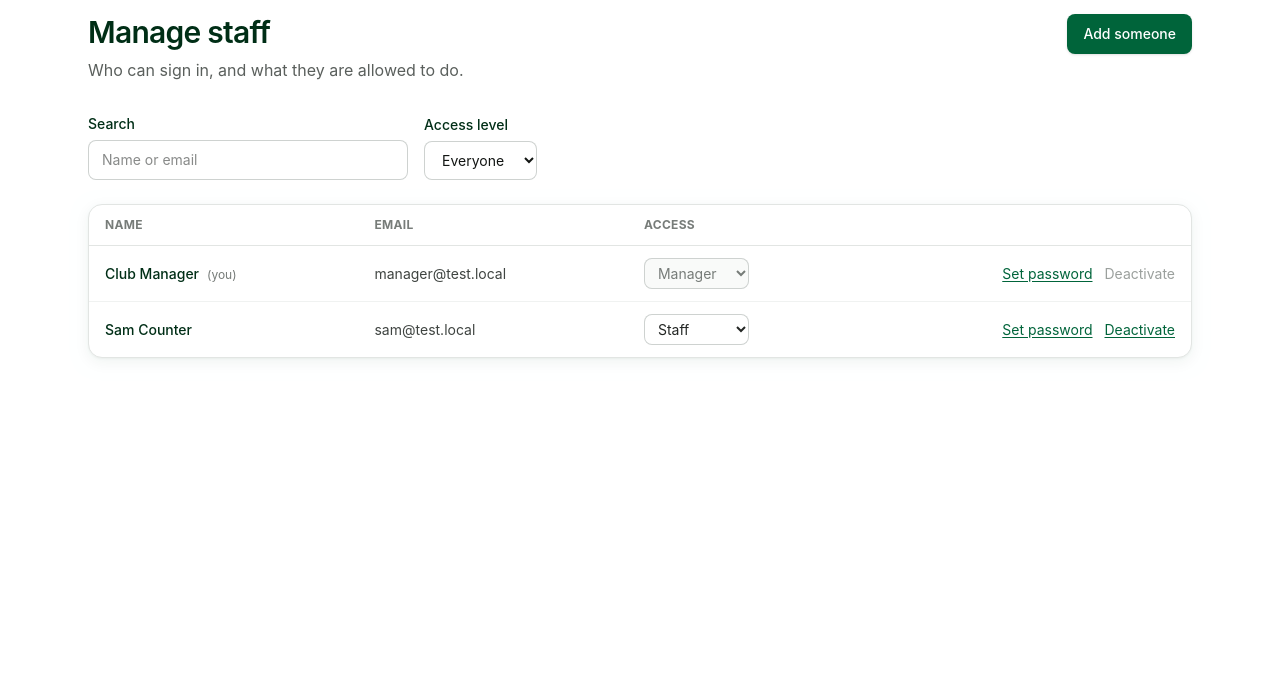
AdminUsersPage › creates an account with the chosen access level
Click the button "Add someone" at (1130, 34), box top-left (1067, 14), bottom-right (1192, 54)
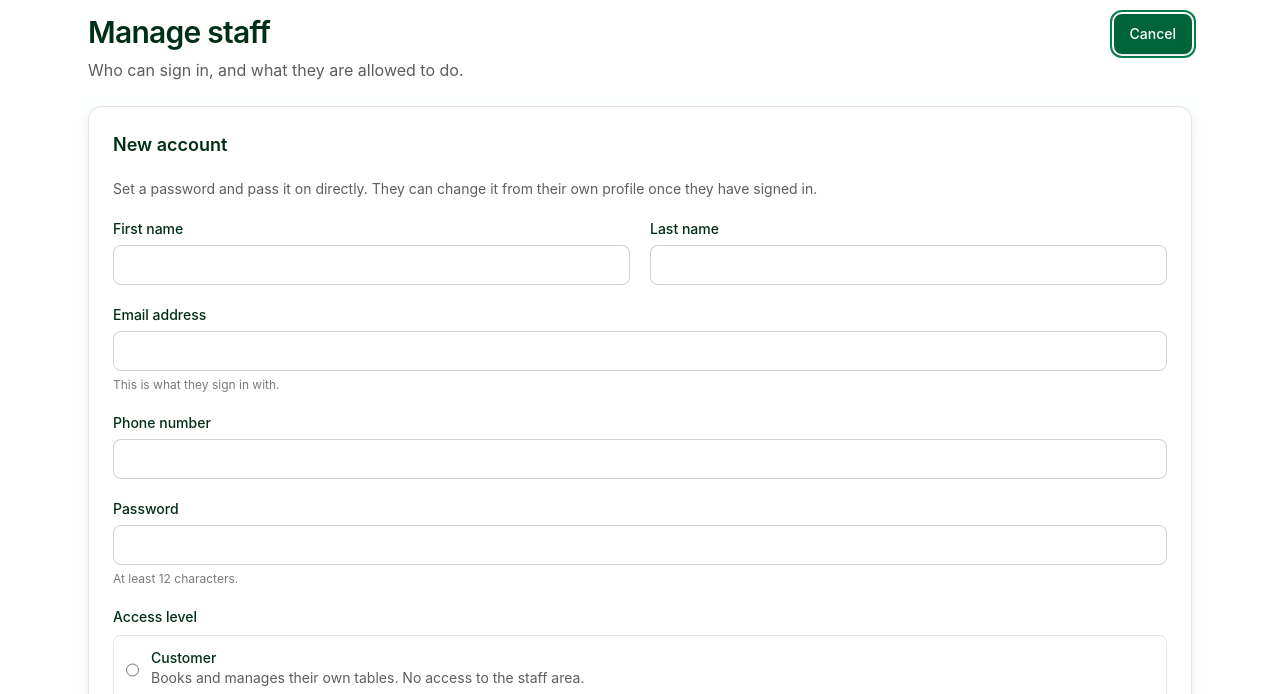
Type "New" into the field labelled "First name" at (372, 265), box top-left (113, 245), bottom-right (630, 285)
Type "Starter" into the field labelled "Last name" at (908, 265), box top-left (650, 245), bottom-right (1167, 285)
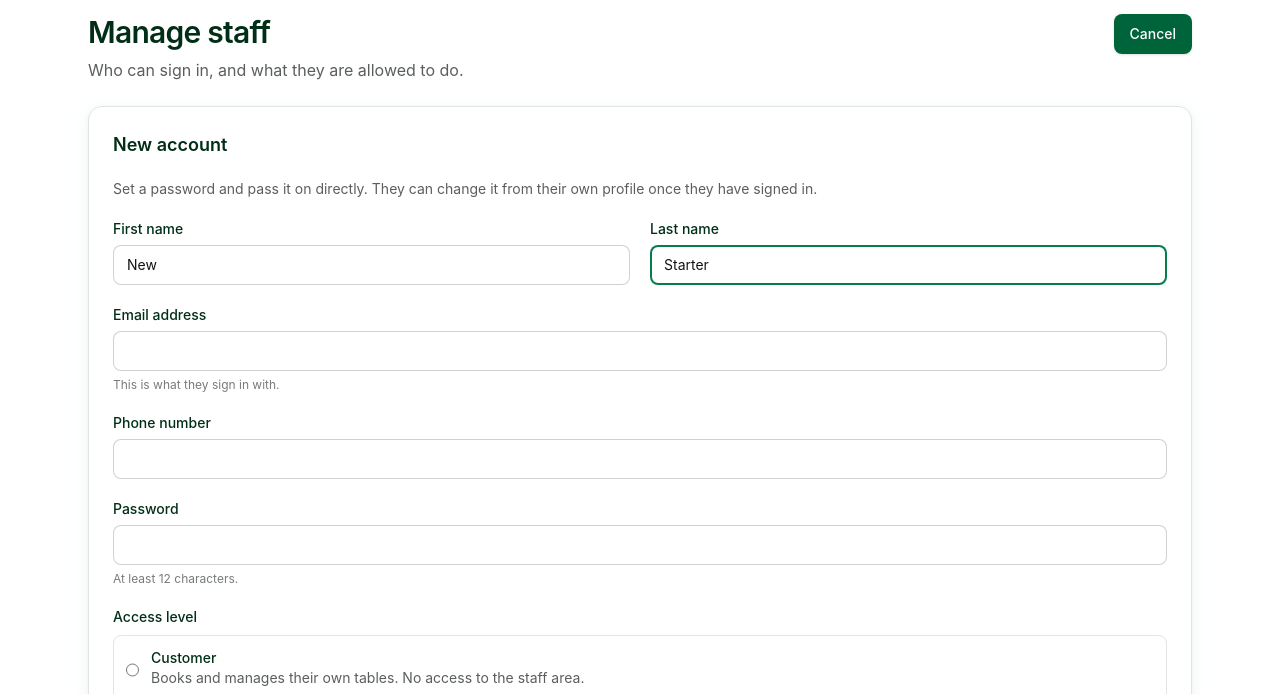
Type "new@test.local" into the field labelled "Email address" at (640, 351), box top-left (113, 331), bottom-right (1167, 371)
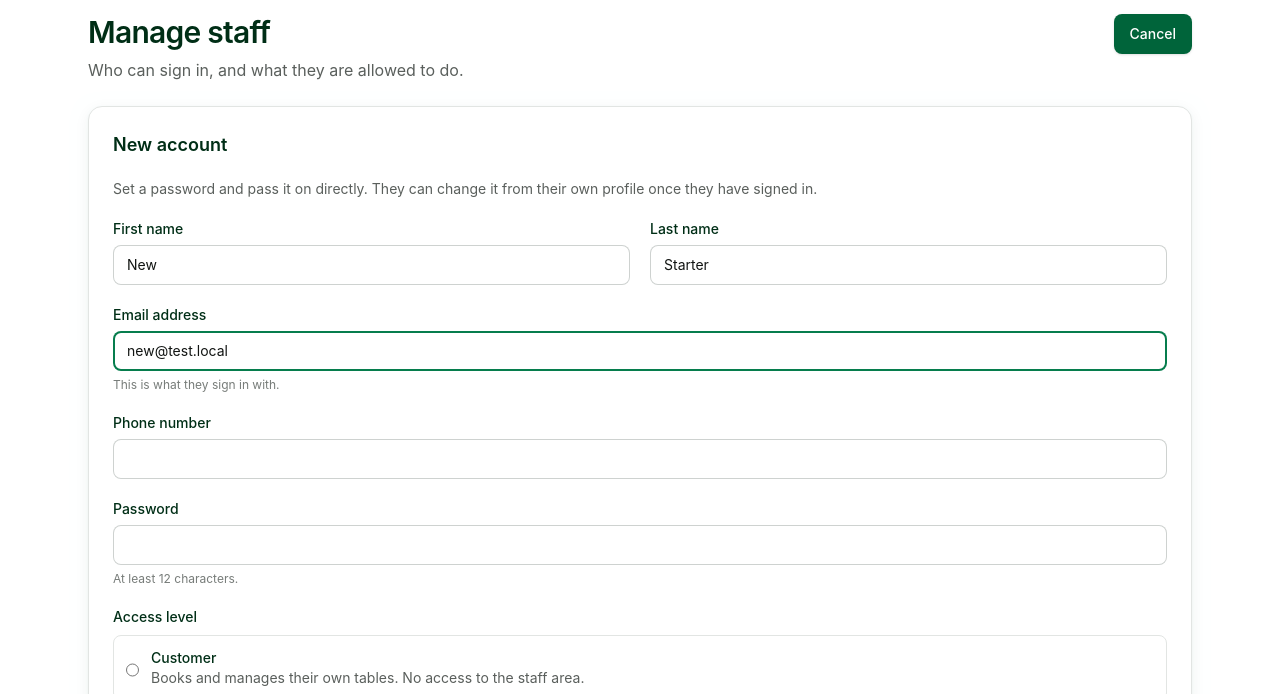
Type "AVeryLongPassword1" into the password field labelled "Password" at (640, 545), box top-left (113, 525), bottom-right (1167, 565)
(page scrolled)
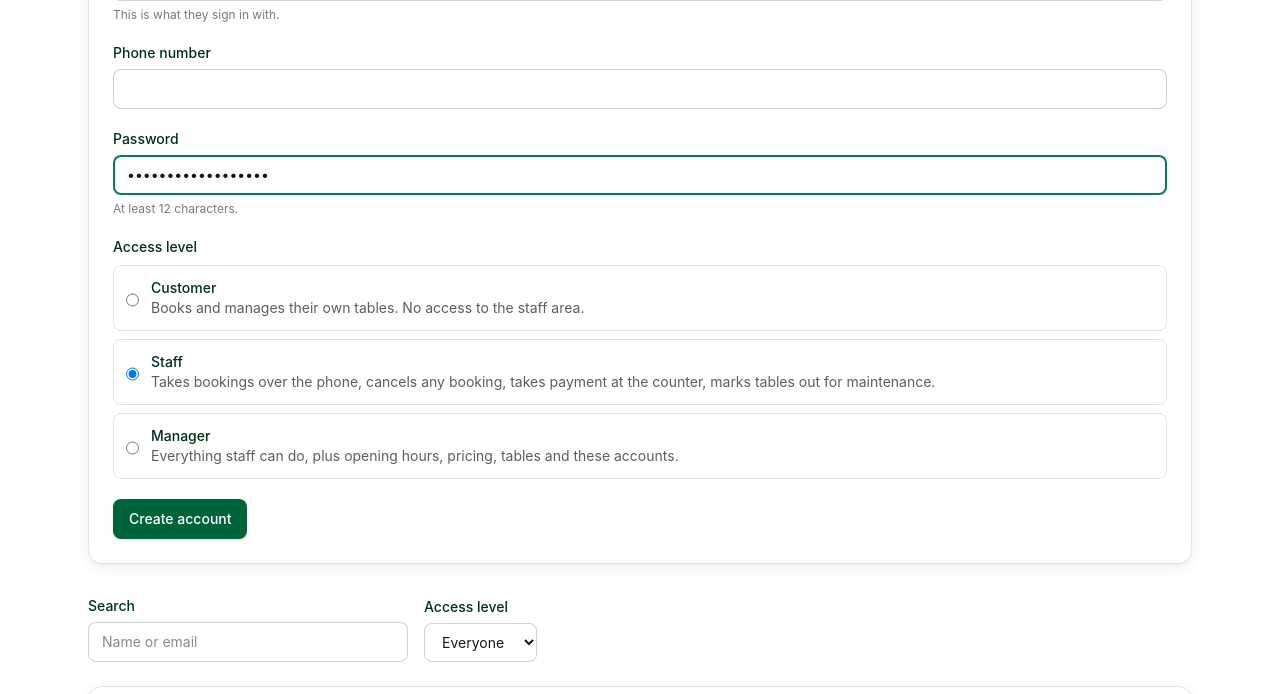
Click the radio button labelled "Staff" at (132, 374), box top-left (126, 356), bottom-right (139, 392)
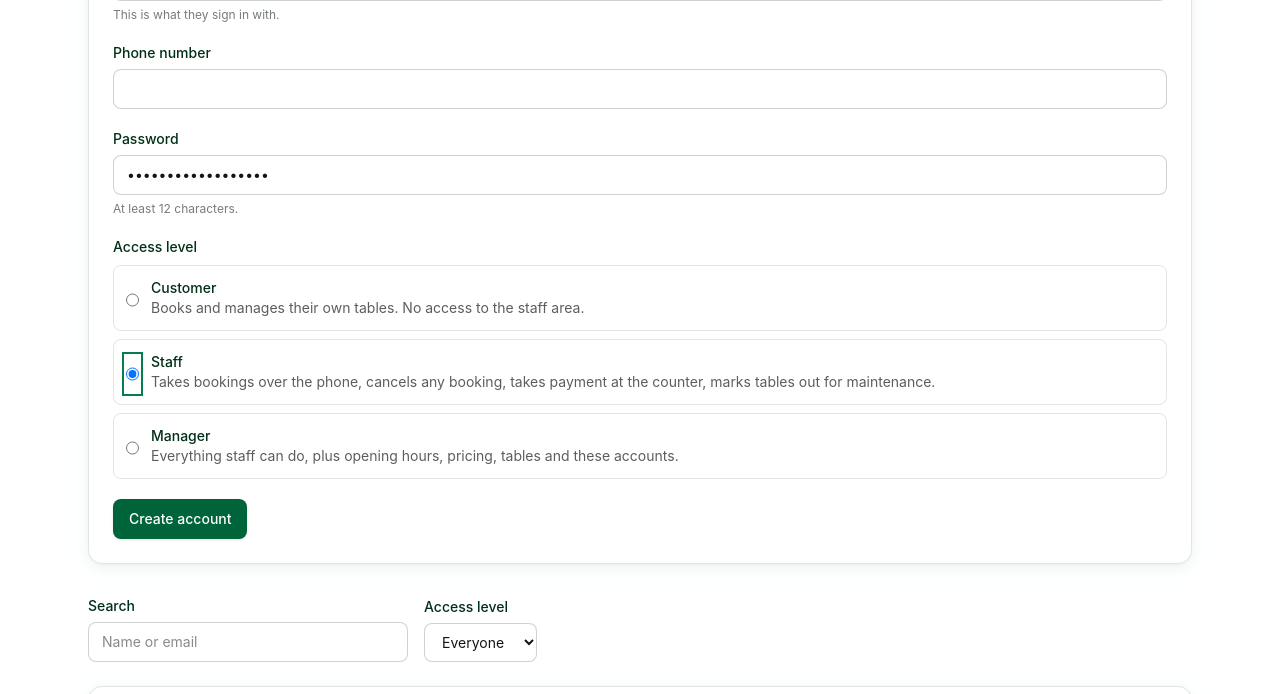
Click the button "Create account" at (180, 519), box top-left (113, 499), bottom-right (248, 539)
(page scrolled)
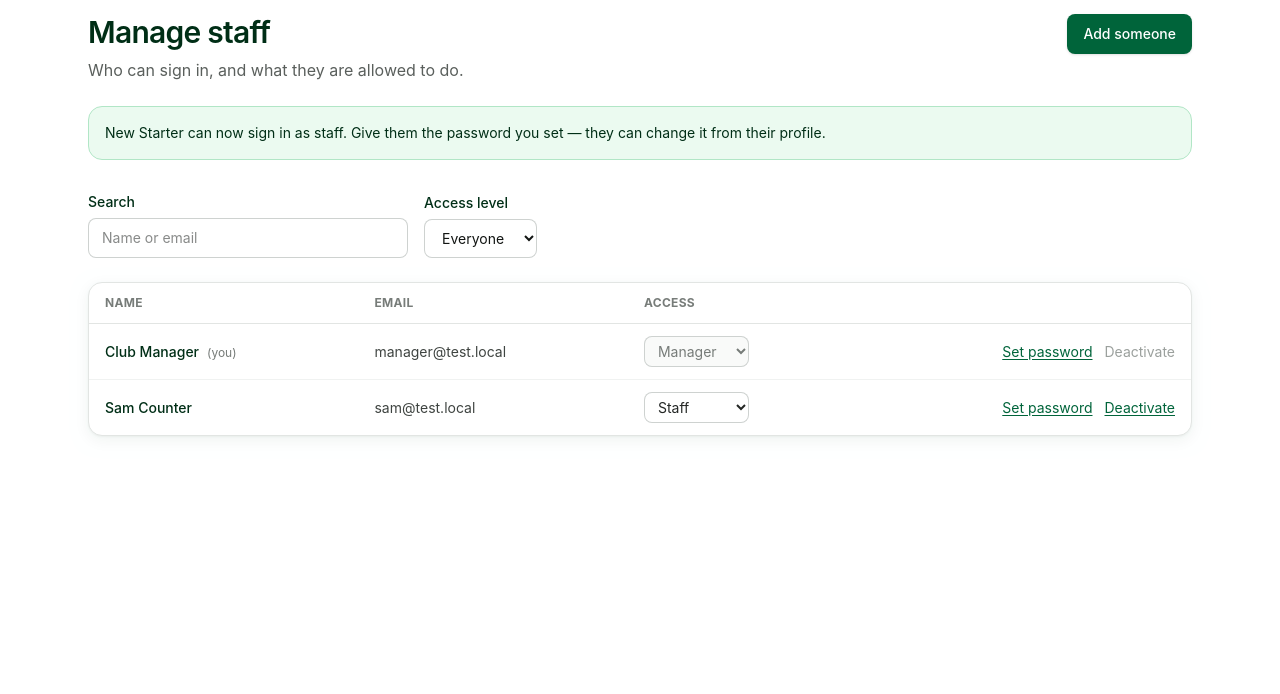
expect the message shows "Give them the password": met, box top-left (105, 124), bottom-right (826, 141)
